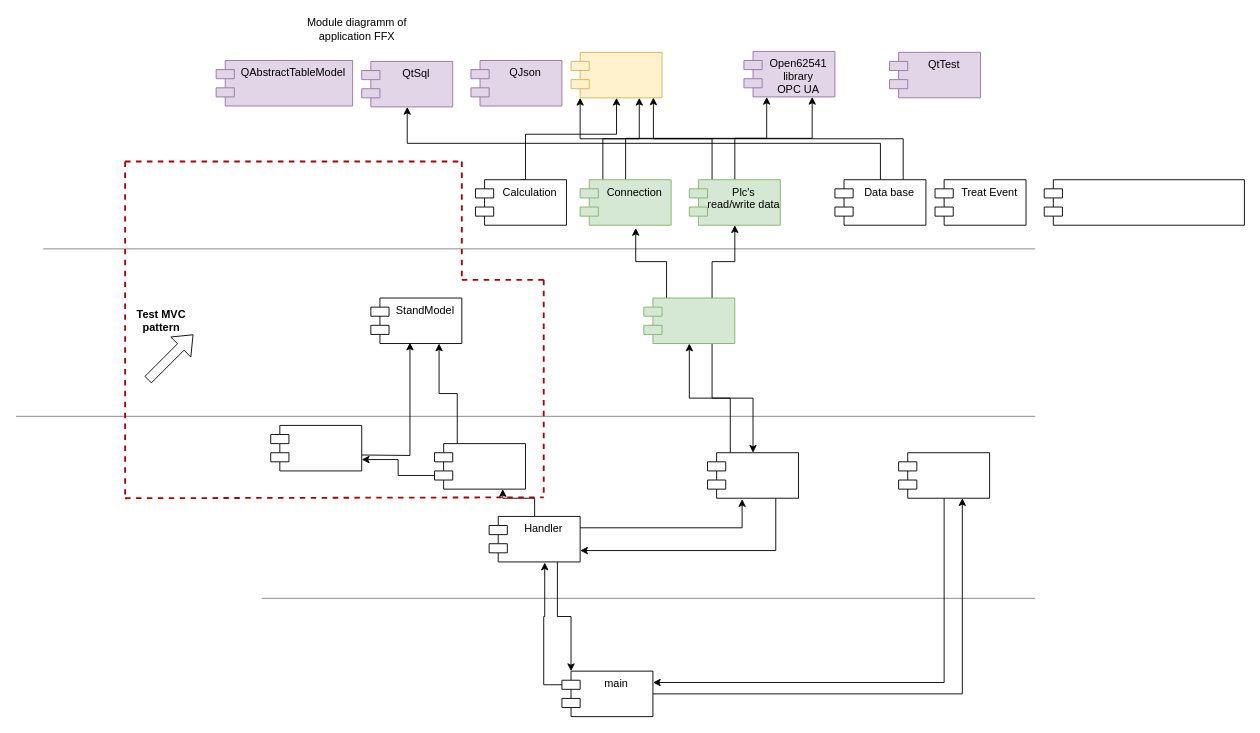
The diagram is 1260 pixels wide and 733 high, and some of its shapes have lost their labels. The box of each missing label's shape, as (x1, y1, x2, y2) in pixels:
ClientOPC: (643, 297, 735, 344)
Common: (570, 51, 662, 98)
Control: (434, 443, 526, 489)
GUI: (270, 425, 362, 471)
Model: (707, 452, 799, 498)
Process Data(json, xml and so on): (1043, 179, 1244, 225)
TEST for each module: (898, 452, 990, 498)
